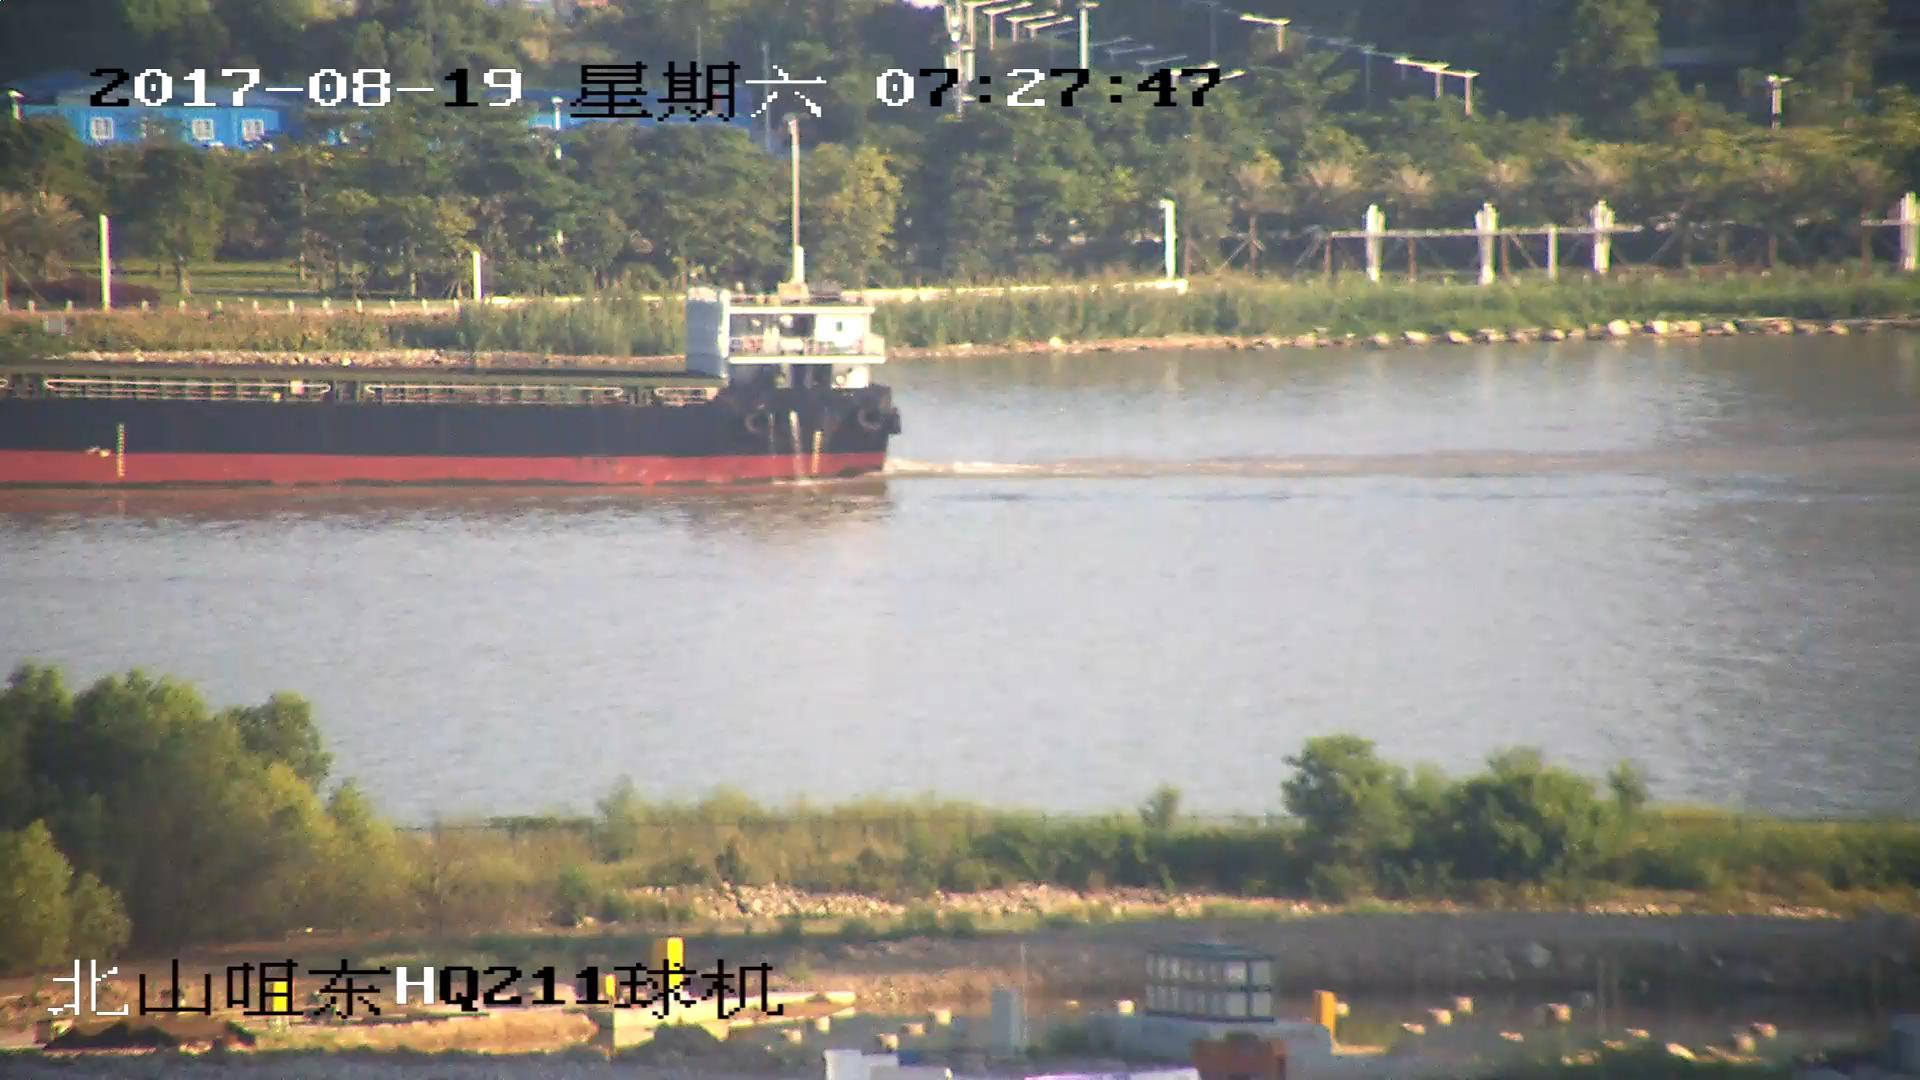Ship: (3, 293, 906, 493)
